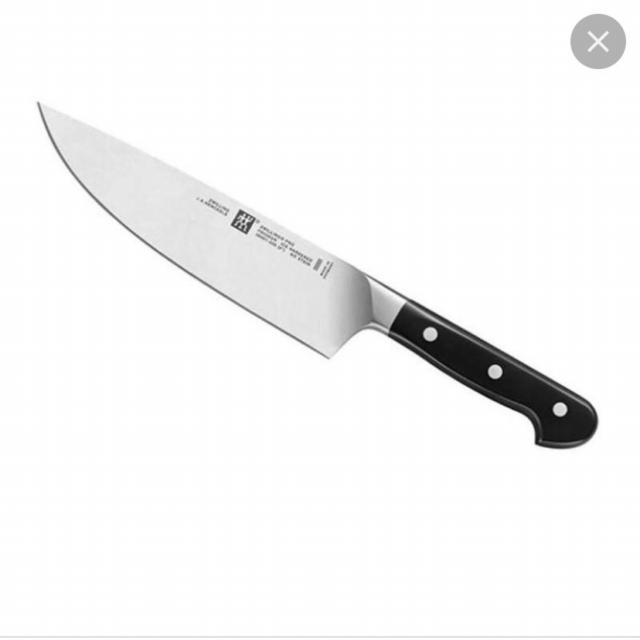Knife: (28, 84, 602, 453)
